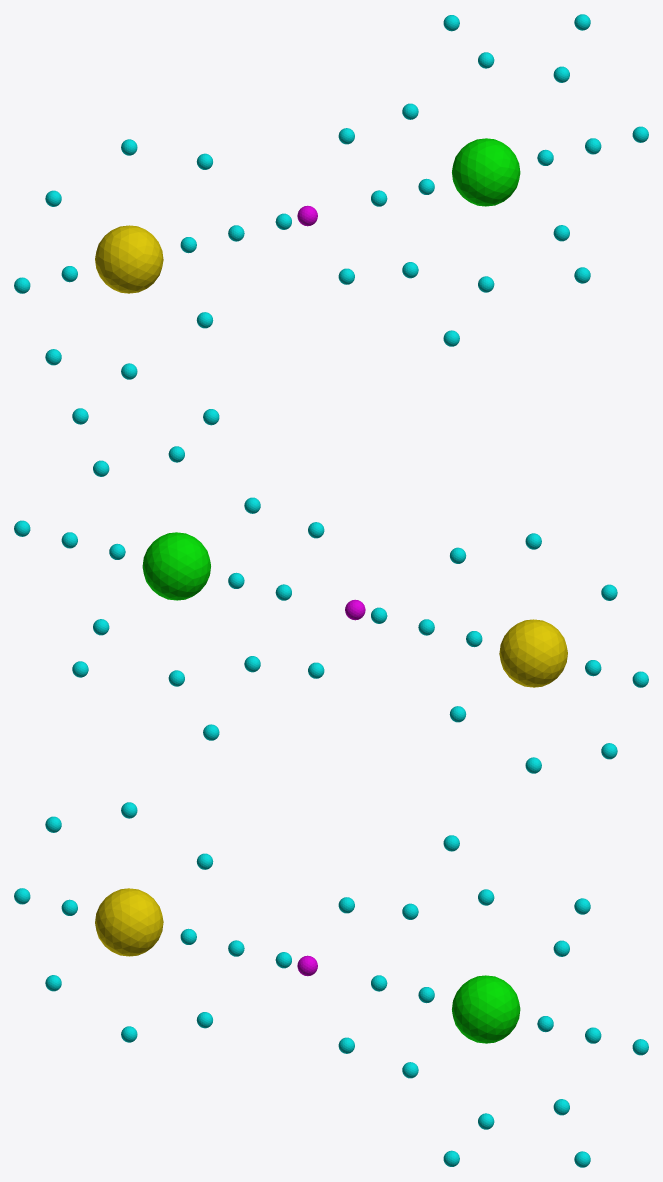
File: ionic_bonding.glb
The picture shows the model from 3 angles, top to bottom: view 1: azimuth 30°, elevation 25°; view 2: azimuth 150°, elevation 25°; view 3: azimuth 330°, elevation 25°; orthographic projection.
Visible parts, largest first — view 1: world; view 2: world; view 3: world.
Boxes of the visible parts, <box> form: world: <box>14,14,648,379</box>; world: <box>14,408,648,773</box>; world: <box>14,802,648,1167</box>.
Bounding box in the file's own units: 10.64 × 5.31 × 1.
